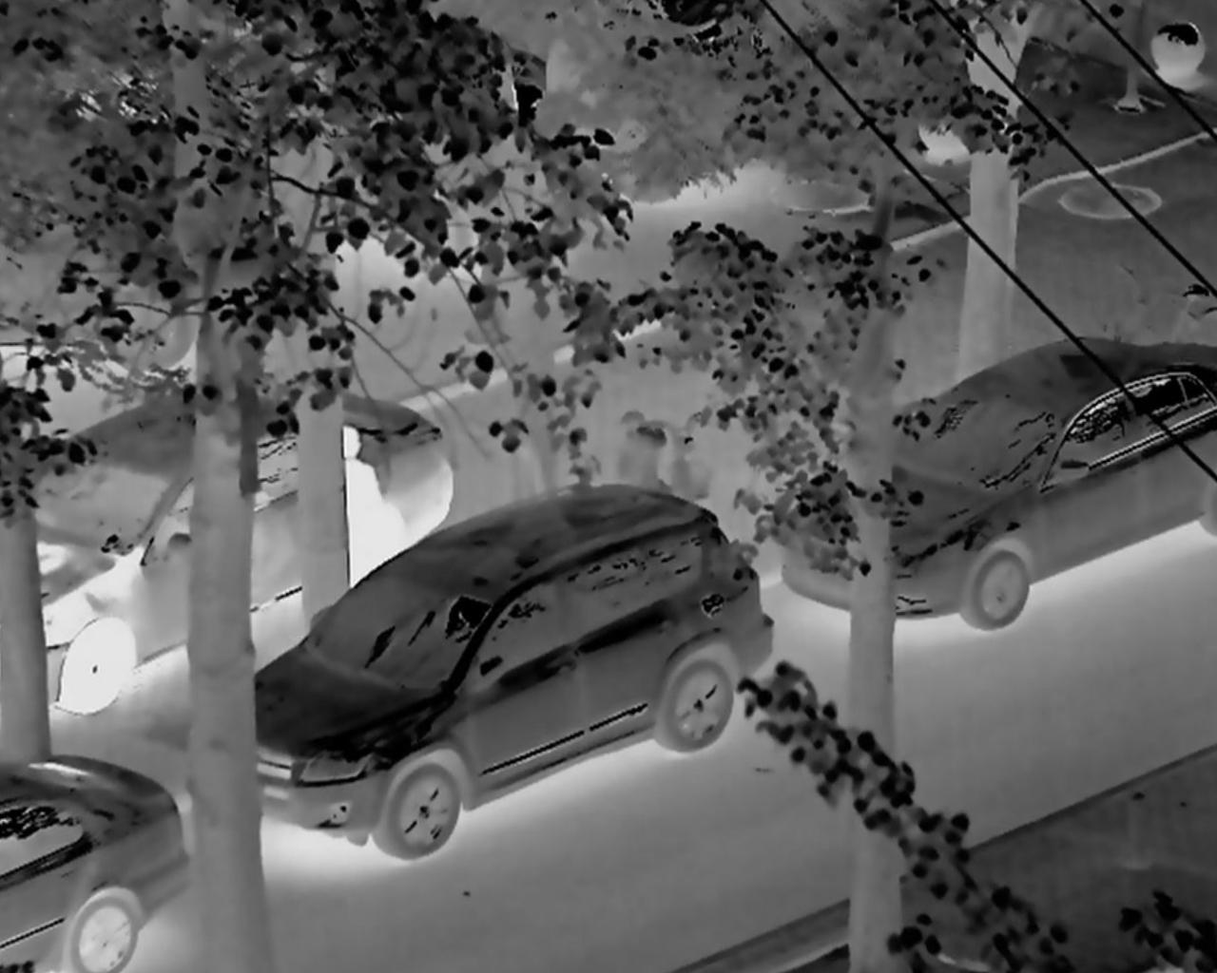person: (334, 422, 400, 596)
